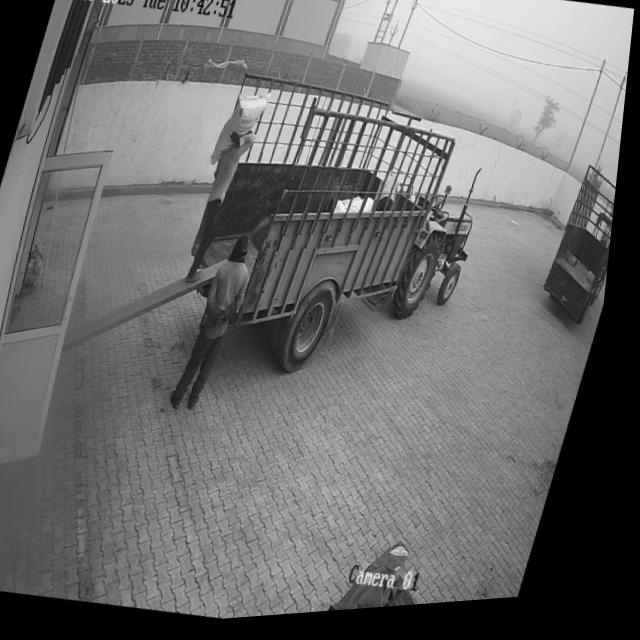sack: (211, 89, 273, 178)
